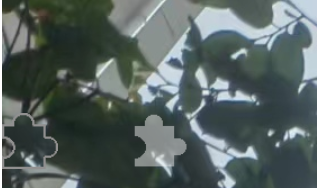target: (126, 112, 191, 173)
